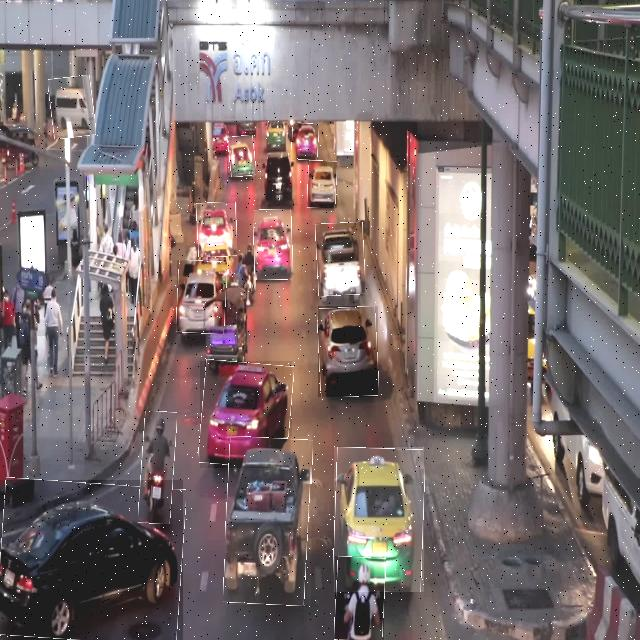Car: (0, 480, 183, 640), (334, 447, 424, 592), (200, 361, 292, 468), (318, 306, 378, 397), (177, 260, 227, 334), (50, 76, 94, 138), (254, 210, 292, 280), (196, 203, 237, 257), (308, 161, 337, 208), (228, 136, 255, 177), (292, 124, 318, 160)
Motorcycle: (335, 556, 384, 640), (140, 412, 176, 524)
Truck: (226, 437, 312, 605), (316, 223, 365, 296), (261, 150, 297, 206)
